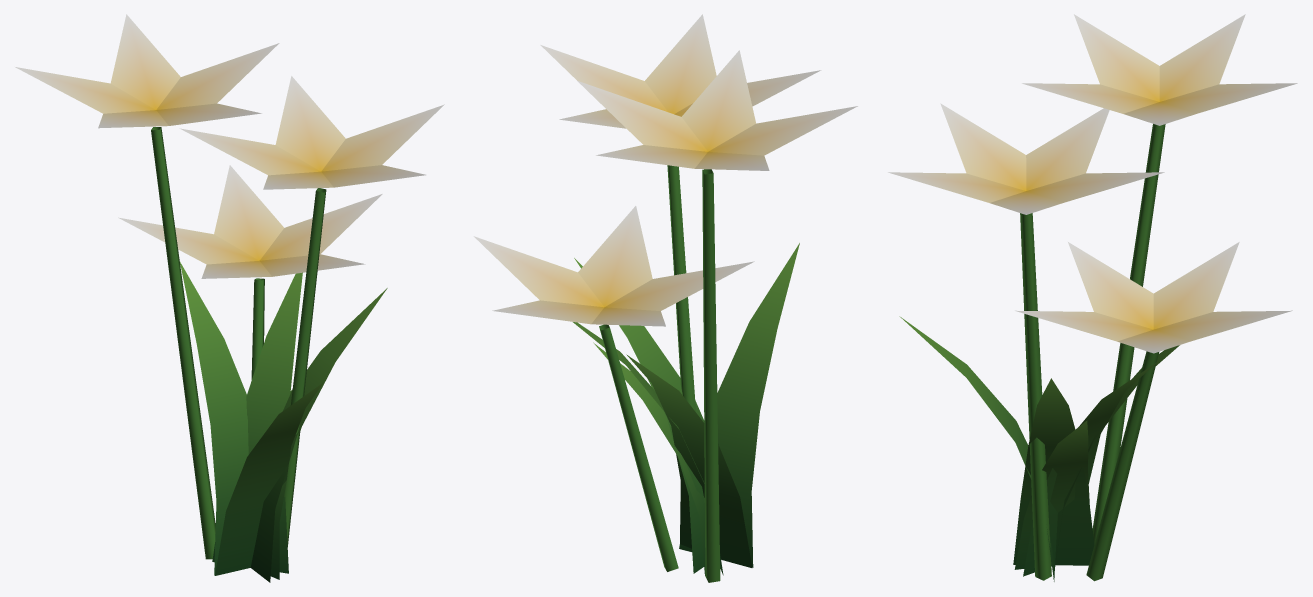
Rendered from f_flower1.glb.
3 renders of one model, left to right at view 1: azimuth 30°, elevation 25°; view 2: azimuth 150°, elevation 25°; view 3: azimuth 270°, elevation 25°, orthographic. The views are drawn at different scales.
Parts seen in each view (by area): view 1: flower1; view 2: flower1; view 3: flower1.
Part boxes in pixels (bbox=[...]): flower1: bbox=[15, 14, 444, 582]; flower1: bbox=[473, 14, 857, 582]; flower1: bbox=[888, 14, 1297, 581].
Bounding box in the file's own units: 0.3669 × 0.5077 × 0.3939.
